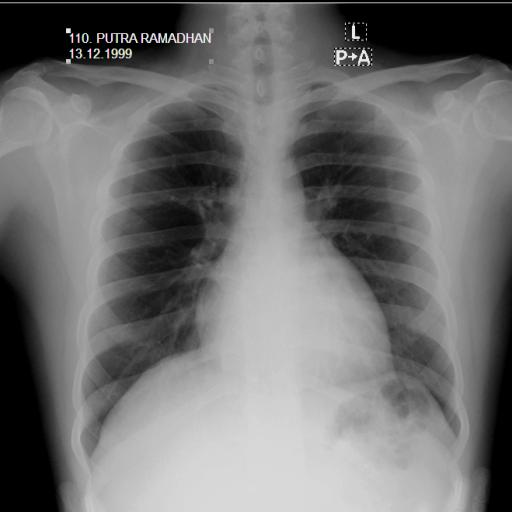kardiomegali: (70, 58, 478, 478)
